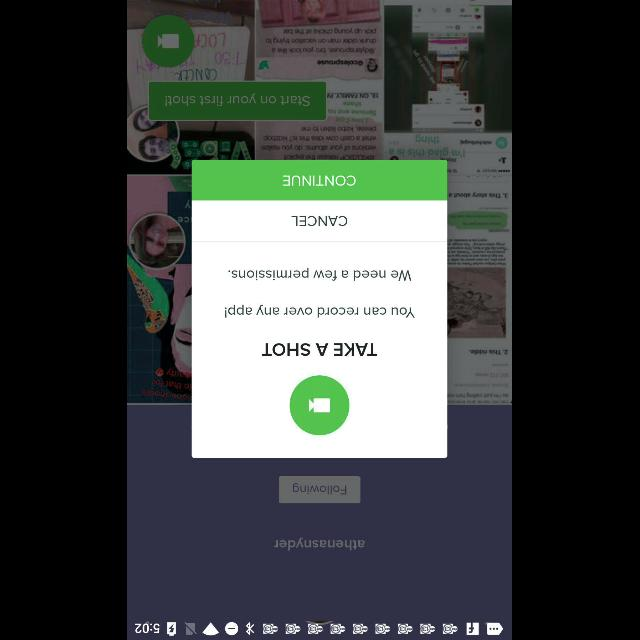icon: (143, 14, 195, 68)
image: (291, 376, 349, 434)
panel: (192, 160, 448, 458)
text: (226, 304, 416, 318), (230, 267, 412, 281), (262, 344, 378, 356), (274, 538, 366, 550)
textbutton: (192, 200, 448, 242), (192, 160, 448, 200), (148, 81, 328, 121), (279, 476, 361, 502)
uppertaskbar: (128, 617, 512, 639)
